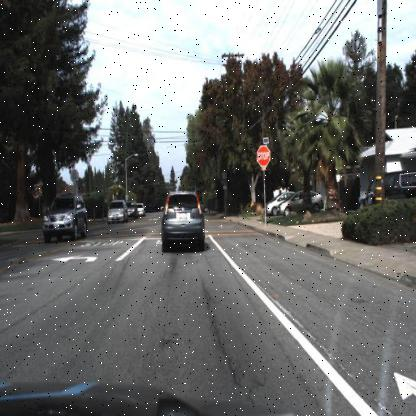car: (38, 185, 91, 253), (158, 189, 204, 259), (359, 162, 415, 213), (274, 184, 325, 219), (103, 195, 128, 227), (264, 190, 298, 213), (261, 190, 276, 222), (126, 192, 138, 224), (134, 199, 146, 220)
